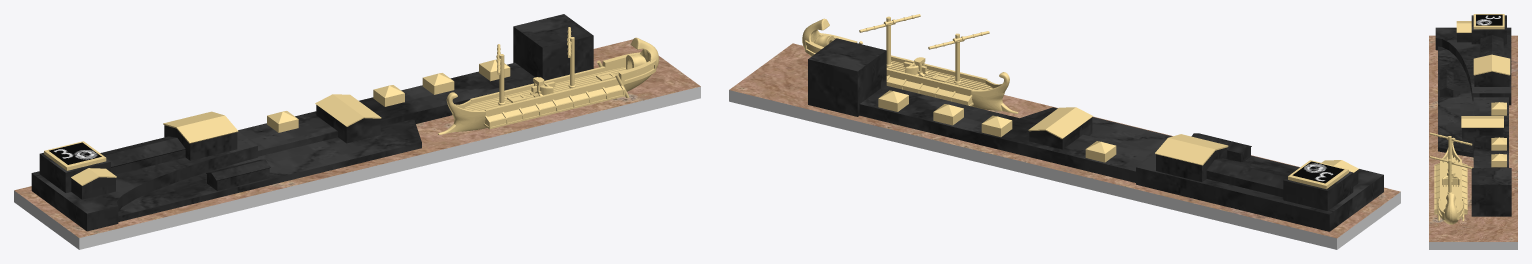
Rendered from buildingPuertoImperial.glb.
3 views of the same model, side by side, from view 1: azimuth 30°, elevation 25°; view 2: azimuth 150°, elevation 25°; view 3: azimuth 270°, elevation 25° (orthographic). The views are drawn at different scales.
Parts seen in each view (by area): view 1: PuertoImperial; view 2: PuertoImperial; view 3: PuertoImperial.
Part boxes in pixels (<box>): PuertoImperial: <box>14,14,700,249</box>; PuertoImperial: <box>729,14,1400,249</box>; PuertoImperial: <box>1429,14,1517,249</box>.
Bounding box in the file's own units: 11 × 1.3 × 2.
Materials: 5 (3 with a texture image).
